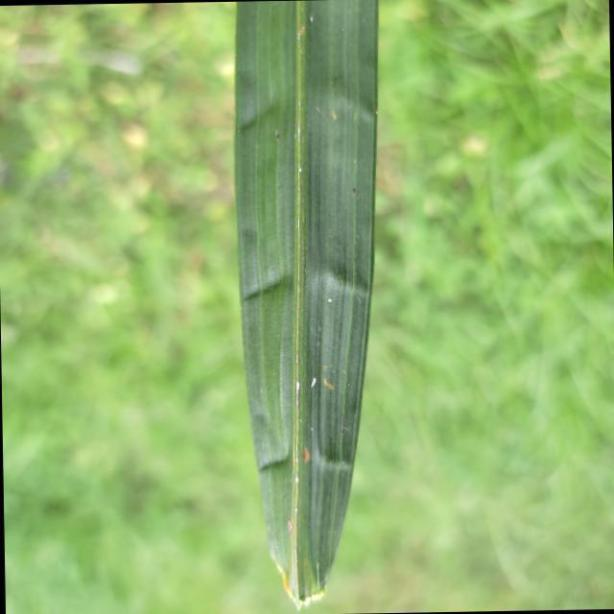Boron: (236, 0, 380, 610)
